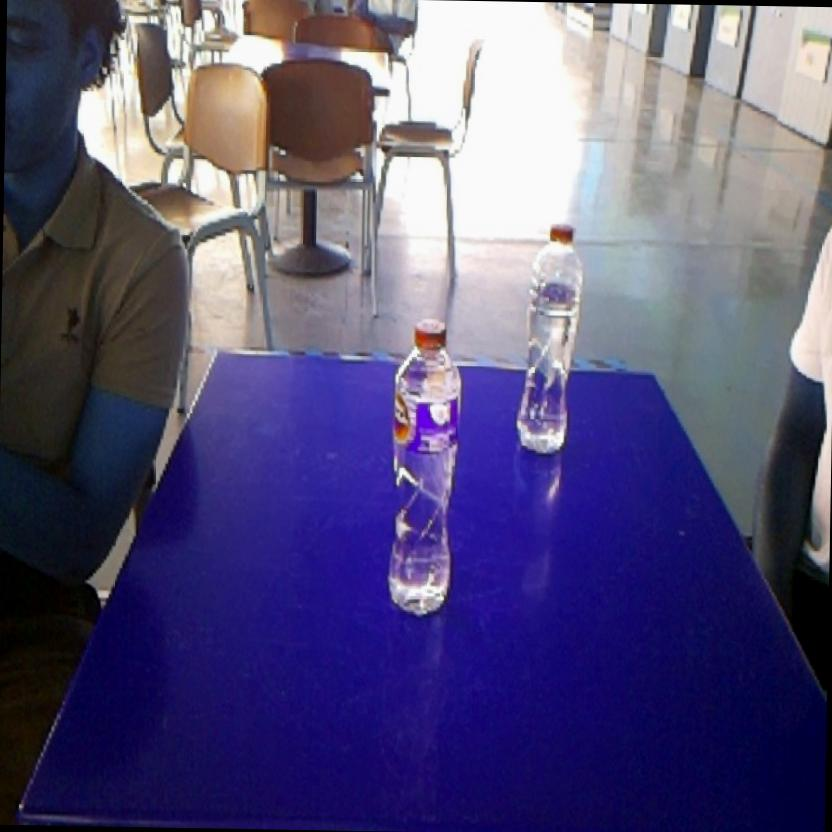good: (378, 303, 469, 630)
no_label: (511, 206, 588, 467)
